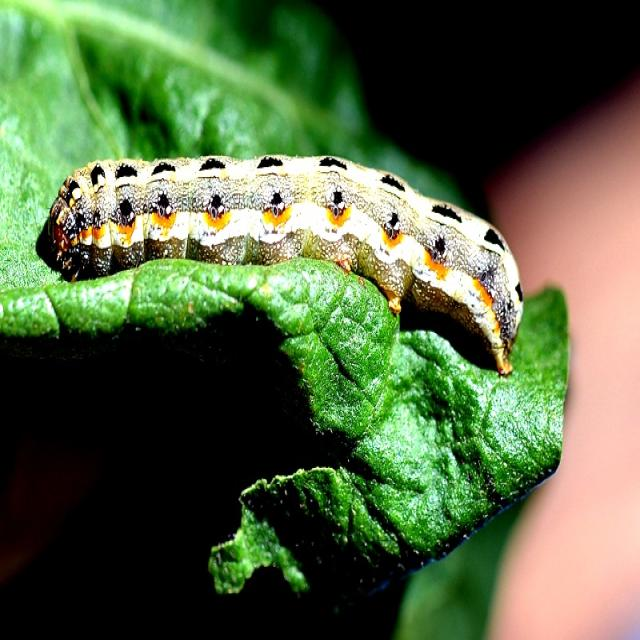armyworm: (46, 151, 524, 376)
